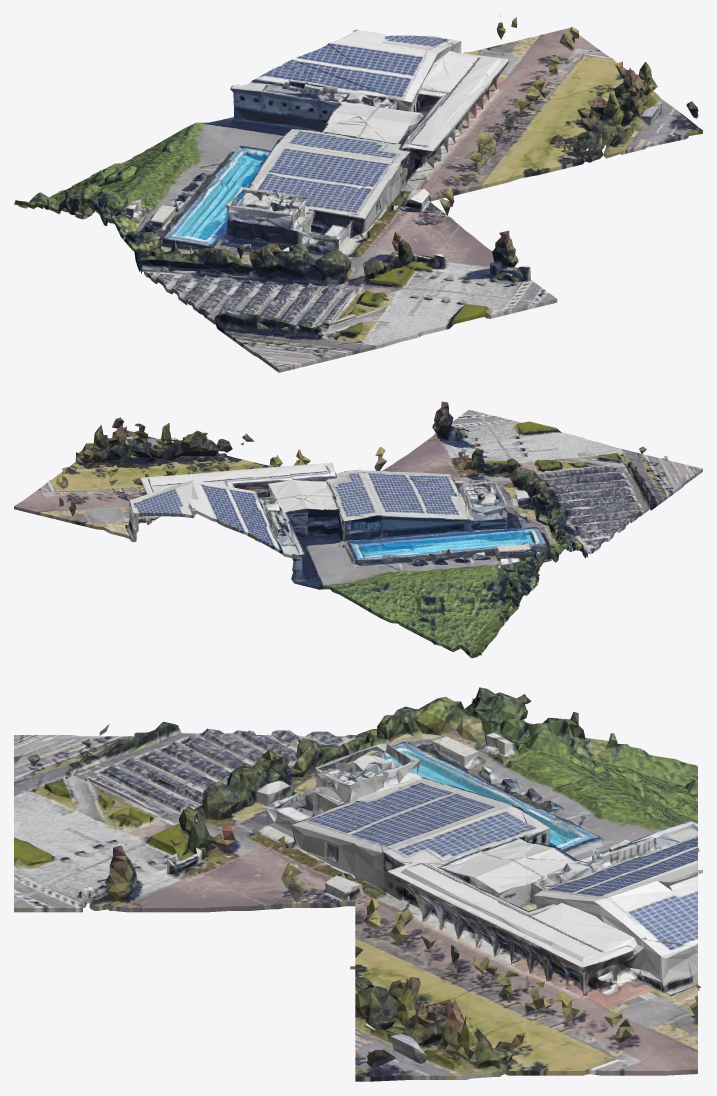
Rendered from Split3.fbx.
3 views of the same model, one above another, from view 1: azimuth 30°, elevation 25°; view 2: azimuth 150°, elevation 25°; view 3: azimuth 270°, elevation 25° (orthographic). The views are drawn at different scales.
Visible parts, largest first — view 1: BuildingMesh-00170; view 2: BuildingMesh-00170; view 3: BuildingMesh-00170.
Boxes of the visible parts, x1,y1,x2,y2 form: BuildingMesh-00170: (14, 15, 702, 372); BuildingMesh-00170: (14, 401, 702, 658); BuildingMesh-00170: (14, 687, 702, 1081).
Bounding box in the file's own units: 196 × 32.95 × 161.
Materials: 4 (4 with a texture image).
